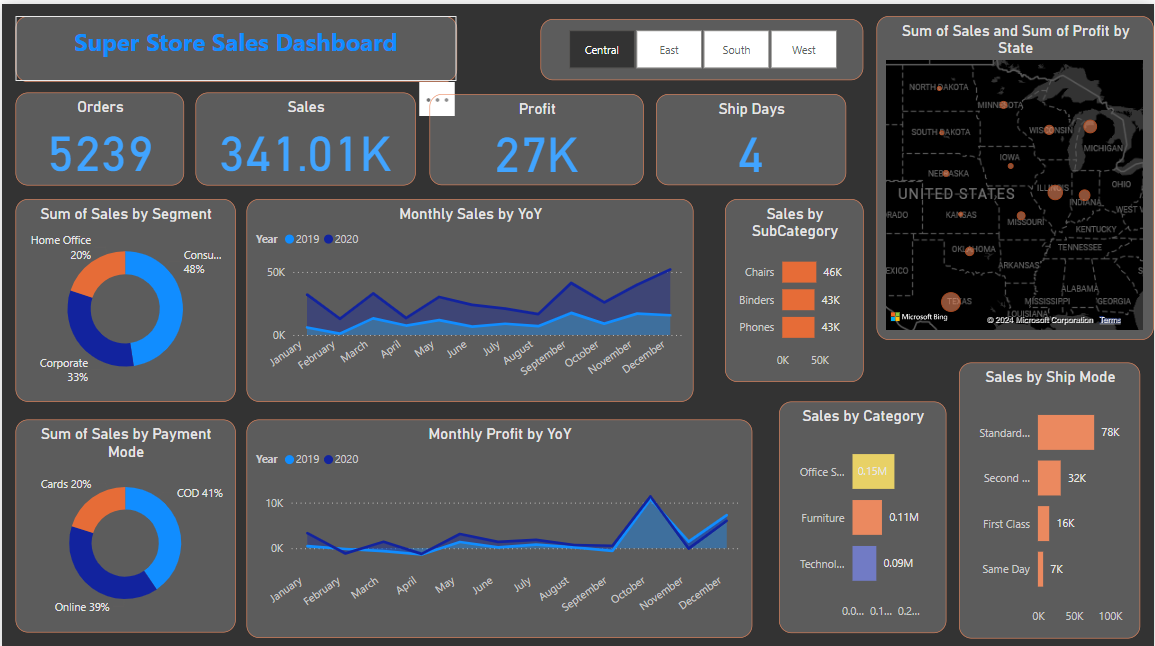

The page's visual inventory and layout, read from the dashboard file:
{"tool":"powerbi","page":{"name":"Page 1","canvas":[1280,720],"ordinal":0},"visuals":[{"type":"clusteredBarChart","title":" Sales by Category","fields":{"Category":["SuperStore_Sales_Dataset.Category"],"Y":["Sum(SuperStore_Sales_Dataset.Sales)"]},"box":[863.5,441.3,185.7,257.1],"z":0},{"type":"clusteredBarChart","title":" Sales by SubCategory","fields":{"Category":["SuperStore_Sales_Dataset.Sub-Category"],"Y":["Sum(SuperStore_Sales_Dataset.Sales)"]},"box":[803.2,215.9,154,203.2],"z":1000},{"type":"clusteredBarChart","title":" Sales by Ship Mode","fields":{"Category":["SuperStore_Sales_Dataset.Ship Mode"],"Y":["Sum(SuperStore_Sales_Dataset.Sales)"]},"box":[1063.5,398.4,201.6,306.3],"z":2000},{"type":"stackedAreaChart","title":"Monthly Sales by YoY","fields":{"Y":["Sum(SuperStore_Sales_Dataset.Sales)"],"Category":["SuperStore_Sales_Dataset.Order Date.Variation.Date Hierarchy.Month","SuperStore_Sales_Dataset.Order Date.Variation.Date Hierarchy.Day"],"Series":["SuperStore_Sales_Dataset.Order Date.Variation.Date Hierarchy.Year"]},"box":[271.4,215.9,496.8,225.4],"z":3000},{"type":"stackedAreaChart","title":"Monthly Profit by YoY","fields":{"Category":["SuperStore_Sales_Dataset.Order Date.Variation.Date Hierarchy.Month","SuperStore_Sales_Dataset.Order Date.Variation.Date Hierarchy.Day"],"Series":["SuperStore_Sales_Dataset.Order Date.Variation.Date Hierarchy.Year"],"Y":["Sum(SuperStore_Sales_Dataset.Profit)"]},"box":[271.4,461.9,561.9,242.9],"z":4000},{"type":"map","fields":{"Category":["SuperStore_Sales_Dataset.State"],"Size":["Sum(SuperStore_Sales_Dataset.Sales)"]},"box":[971.4,12.7,307.9,360.3],"z":5000},{"type":"donutChart","fields":{"Category":["SuperStore_Sales_Dataset.Segment"],"Y":["Sum(SuperStore_Sales_Dataset.Sales)"]},"box":[14.3,215.9,244.4,225.4],"z":6000},{"type":"donutChart","fields":{"Category":["SuperStore_Sales_Dataset.Payment Mode"],"Y":["Sum(SuperStore_Sales_Dataset.Sales)"]},"box":[14.3,461.9,244.4,236.5],"z":7000},{"type":"slicer","fields":{"Values":["SuperStore_Sales_Dataset.Region"]},"box":[598.4,17.5,358.7,68.3],"z":8000},{"type":"textbox","box":[14.3,12.7,490.5,73],"z":9000},{"type":"card","title":"Sales","fields":{"Values":["Sum(SuperStore_Sales_Dataset.Sales)"]},"box":[214.3,98.4,244.4,103.2],"z":10000},{"type":"card","title":"Orders","fields":{"Values":["Sum(SuperStore_Sales_Dataset.Quantity)"]},"box":[14.3,98.4,187.3,103.2],"z":11000},{"type":"card","title":"Ship Days","fields":{"Values":["Avg(SuperStore_Sales_Dataset.AvgDelivery)"]},"box":[727,100,211.1,101.6],"z":12000},{"type":"card","title":"Profit","fields":{"Values":["Sum(SuperStore_Sales_Dataset.Profit)"]},"box":[474.6,100,238.1,101.6],"z":13000}]}

Visuals, with their boxes in screenshot pixels (x1, y1, x2, y2), scaled from the page's 1280x720 canvas onto the 1155x646 screenshot:
" Sales by Category" clusteredBarChart: bbox=(779, 396, 947, 627)
" Sales by SubCategory" clusteredBarChart: bbox=(725, 194, 864, 376)
" Sales by Ship Mode" clusteredBarChart: bbox=(960, 357, 1142, 632)
"Monthly Sales by YoY" stackedAreaChart: bbox=(245, 194, 693, 396)
"Monthly Profit by YoY" stackedAreaChart: bbox=(245, 414, 752, 632)
map - SuperStore_Sales_Dataset.State x Sum(SuperStore_Sales_Dataset.Sales): bbox=(877, 11, 1154, 335)
donutChart - SuperStore_Sales_Dataset.Segment x Sum(SuperStore_Sales_Dataset.Sales): bbox=(13, 194, 233, 396)
donutChart - SuperStore_Sales_Dataset.Payment Mode x Sum(SuperStore_Sales_Dataset.Sales): bbox=(13, 414, 233, 627)
slicer - SuperStore_Sales_Dataset.Region: bbox=(540, 16, 864, 77)
textbox: bbox=(13, 11, 456, 77)
"Sales" card: bbox=(193, 88, 414, 181)
"Orders" card: bbox=(13, 88, 182, 181)
"Ship Days" card: bbox=(656, 90, 846, 181)
"Profit" card: bbox=(428, 90, 643, 181)
